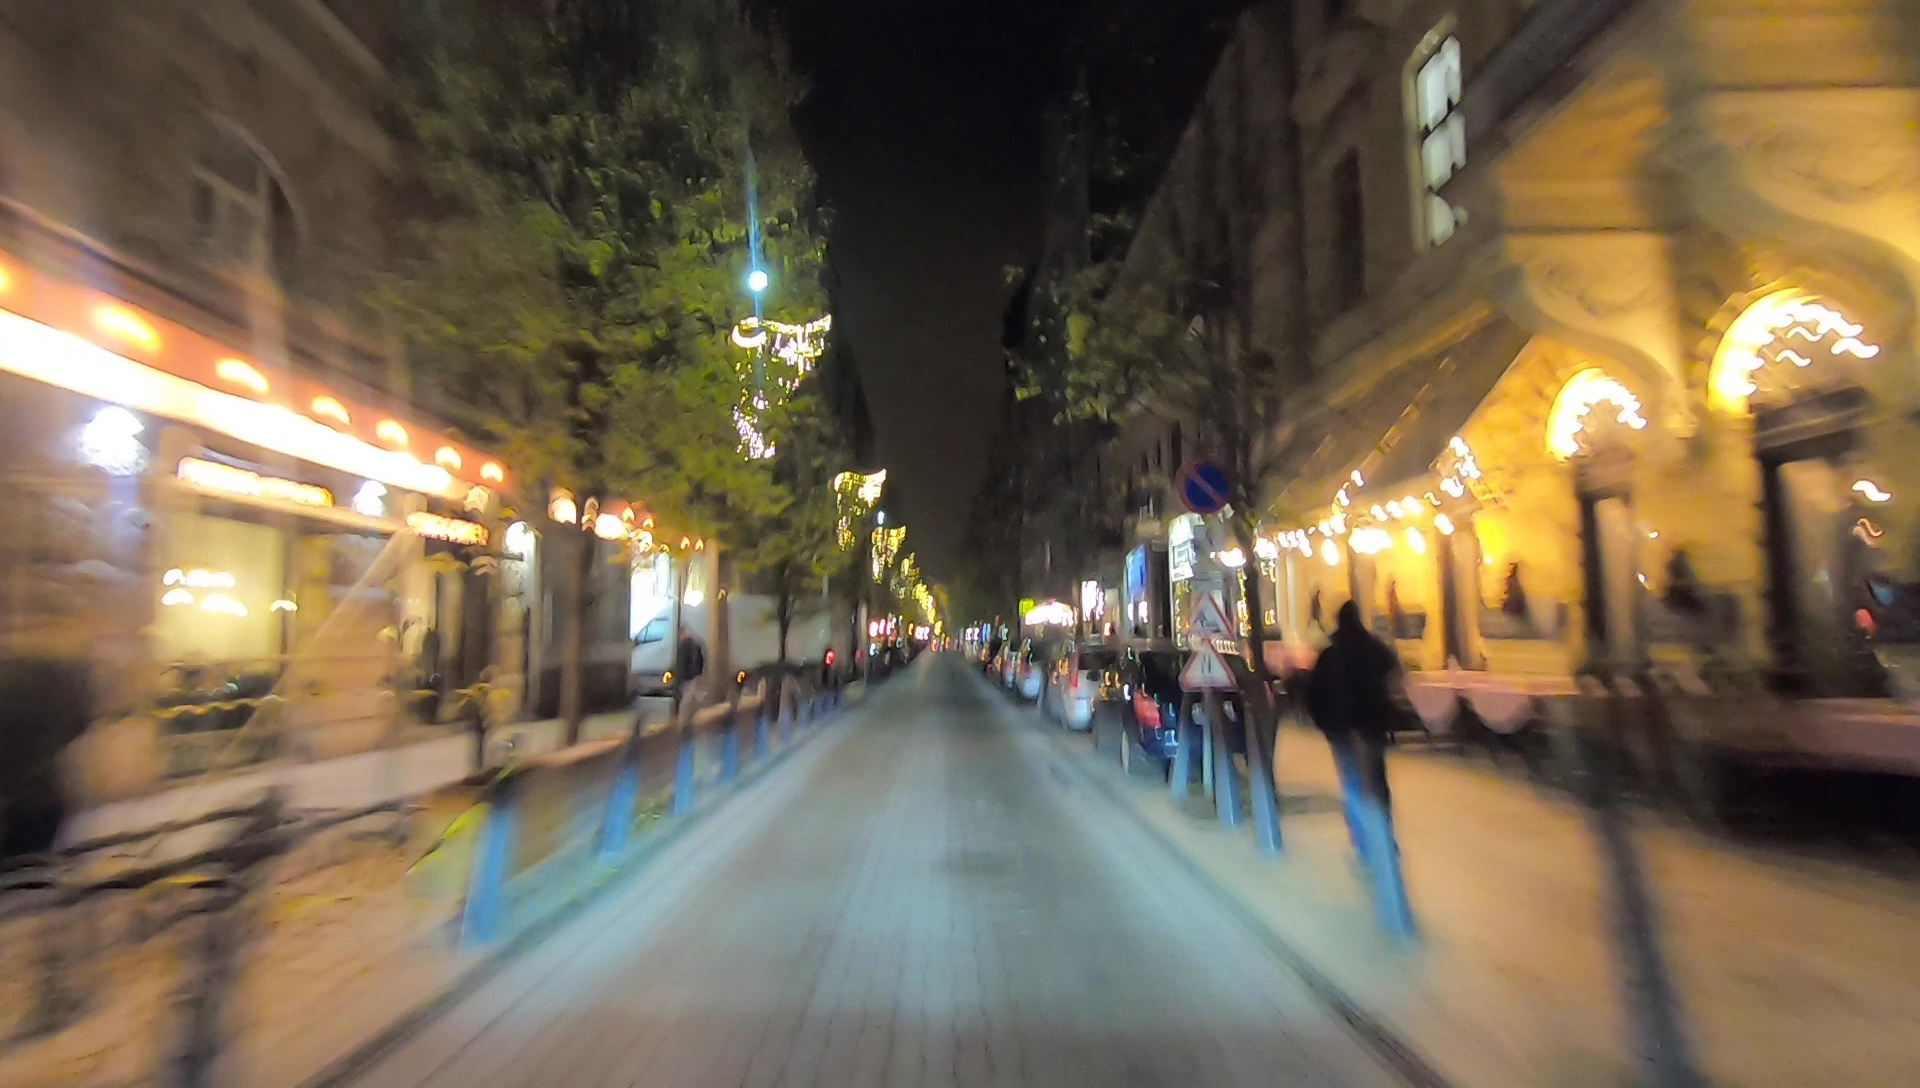person: (1301, 587, 1404, 873)
